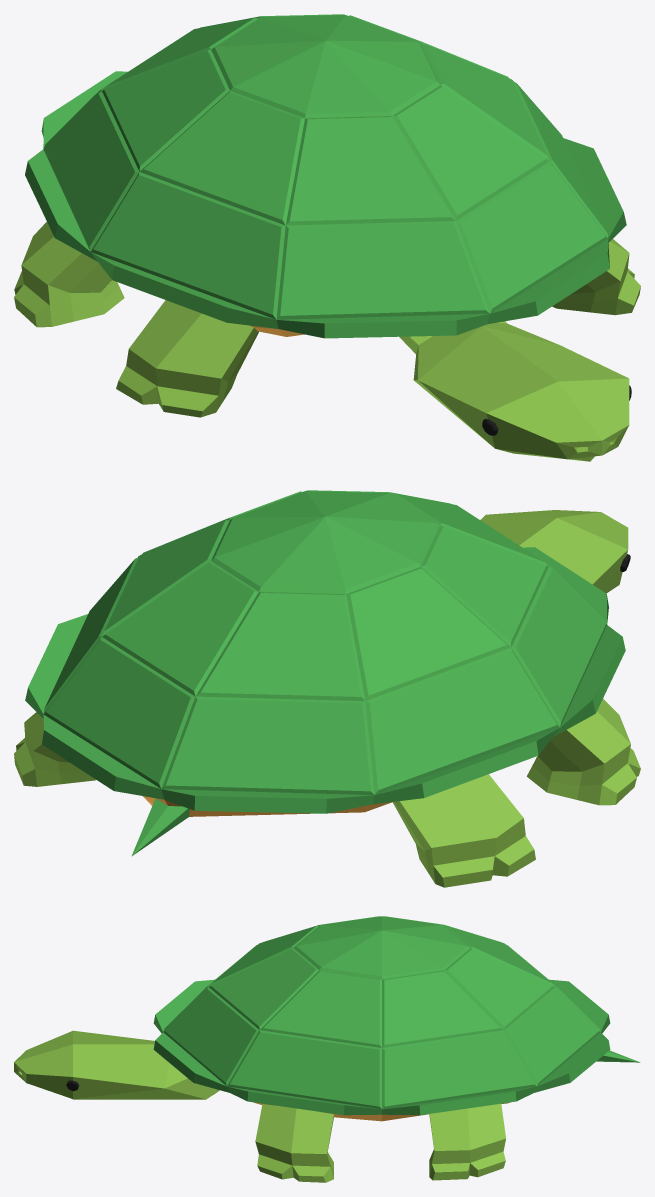
Rendered from Turtle.glb.
3 renders of one model, top to bottom at view 1: azimuth 30°, elevation 25°; view 2: azimuth 150°, elevation 25°; view 3: azimuth 270°, elevation 25°, orthographic. The views are drawn at different scales.
Parts seen in each view (by area): view 1: Turtle_01_Circle.009; view 2: Turtle_01_Circle.009; view 3: Turtle_01_Circle.009.
Boxes of the visible parts, x1,y1,x2,y2 form: Turtle_01_Circle.009: (14,14,640,461); Turtle_01_Circle.009: (14,490,640,887); Turtle_01_Circle.009: (14,916,640,1182).
Size of the model in its own units: 8.94 by 4.4 by 14.6.
